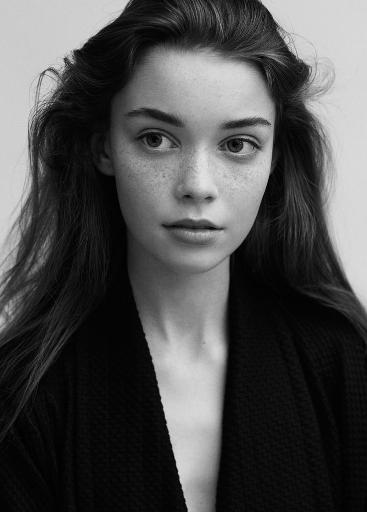left_eye: (219, 137, 264, 163)
left_lip_corner: (218, 222, 231, 239)
right_eye: (134, 130, 181, 157)
right_lip_corner: (158, 216, 174, 239)
